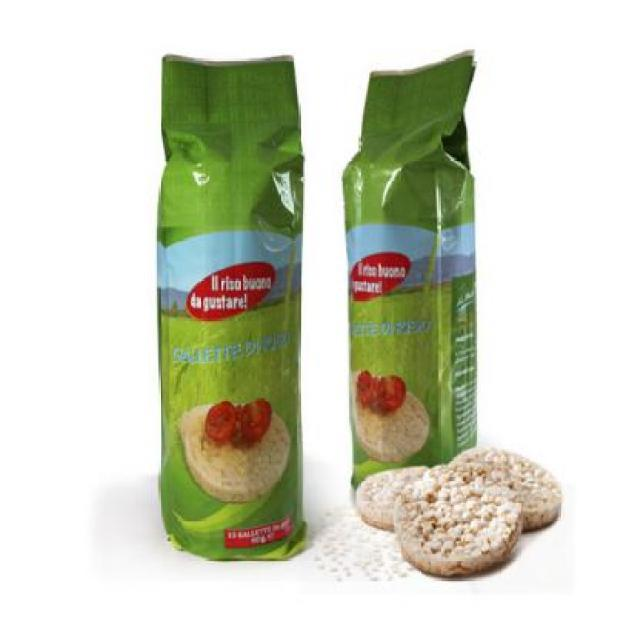Gallette di riso: (155, 50, 314, 562), (338, 46, 484, 486)
Gallette di riso packaged: (355, 444, 568, 578)
